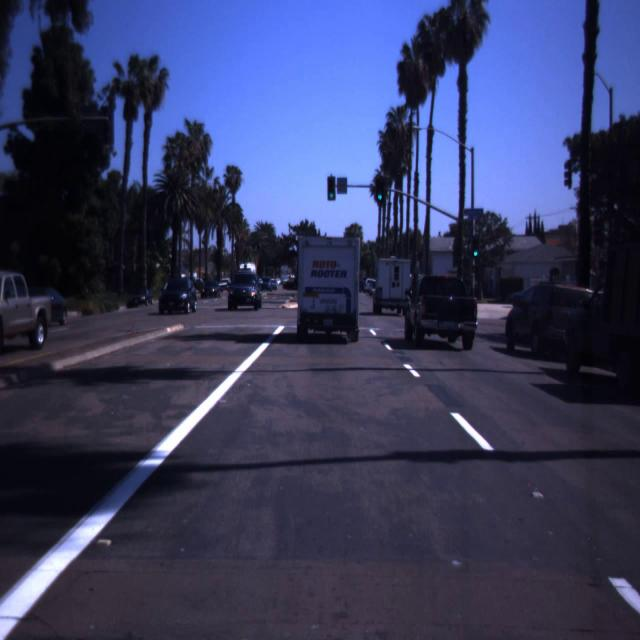go: (326, 172, 338, 202), (472, 238, 480, 258), (375, 184, 384, 201)
go traffic light: (326, 172, 338, 202), (472, 238, 480, 258), (375, 184, 384, 201)
